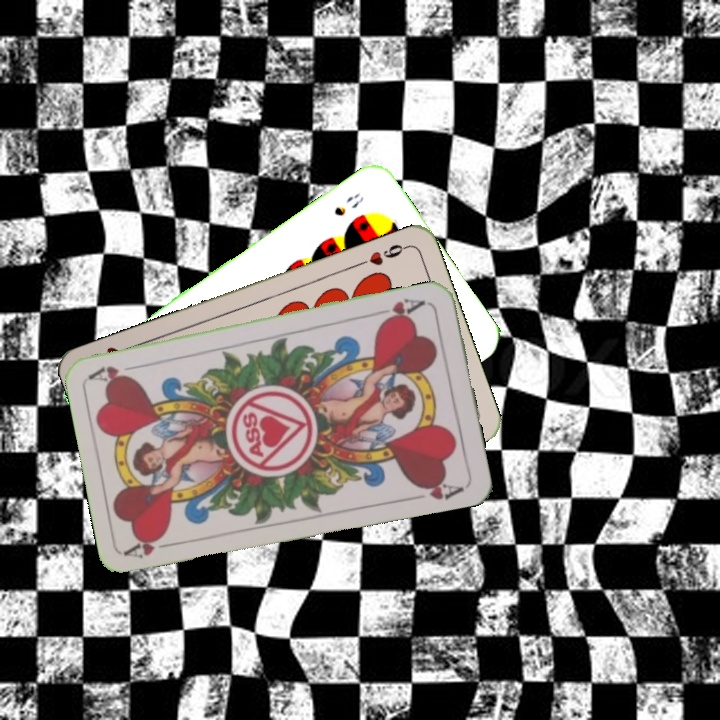H9: (354, 240, 411, 269)
HA: (123, 529, 182, 562), (372, 294, 431, 326)
S8: (329, 189, 367, 219)
